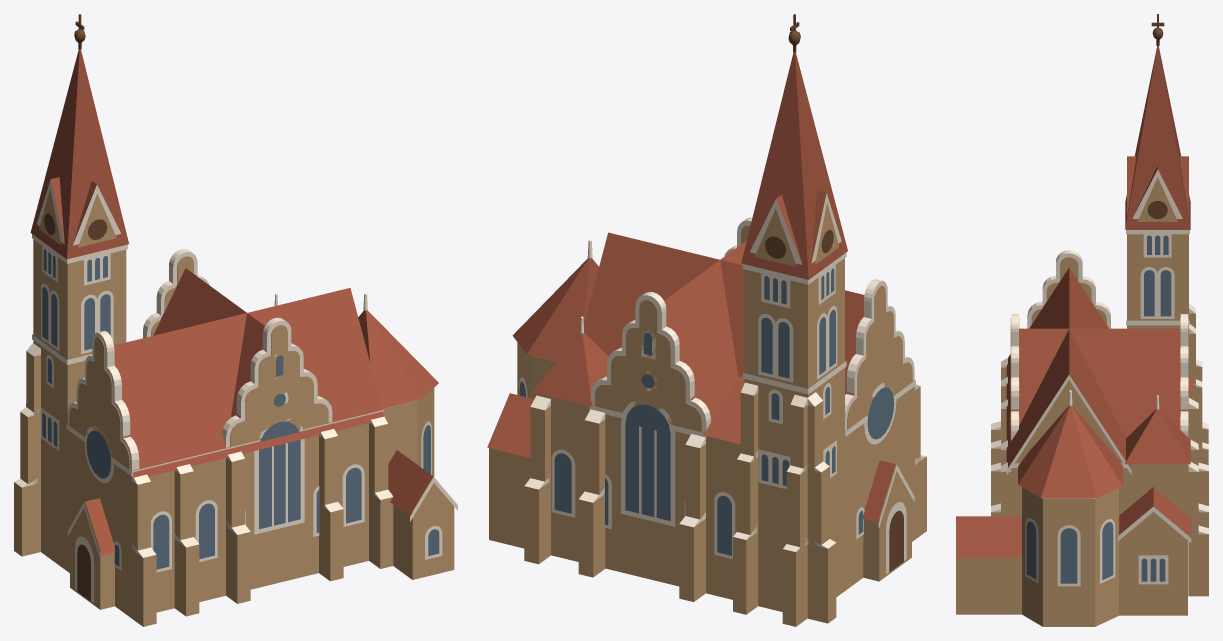
Rendered from windhoek-christuskirche.glb.
3 views of the same model, side by side, from view 1: azimuth 30°, elevation 25°; view 2: azimuth 150°, elevation 25°; view 3: azimuth 270°, elevation 25° (orthographic). The views are drawn at different scales.
Parts seen in each view (by area): view 1: windhoek-christuskirche; view 2: windhoek-christuskirche; view 3: windhoek-christuskirche.
Part boxes in pixels (x1,y1,x2,y2): windhoek-christuskirche: [14, 14, 457, 626]; windhoek-christuskirche: [487, 14, 926, 626]; windhoek-christuskirche: [956, 14, 1208, 626].
Size of the model in its own units: 28.03 by 42 by 19.93.
